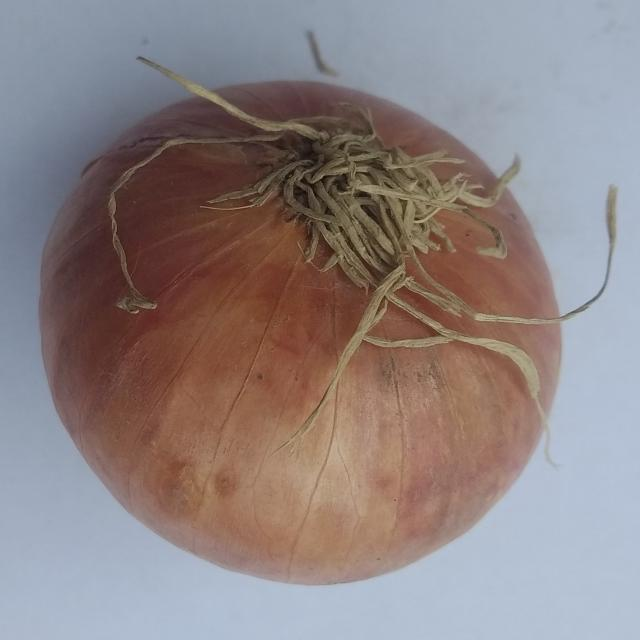onion: (36, 63, 564, 588)
